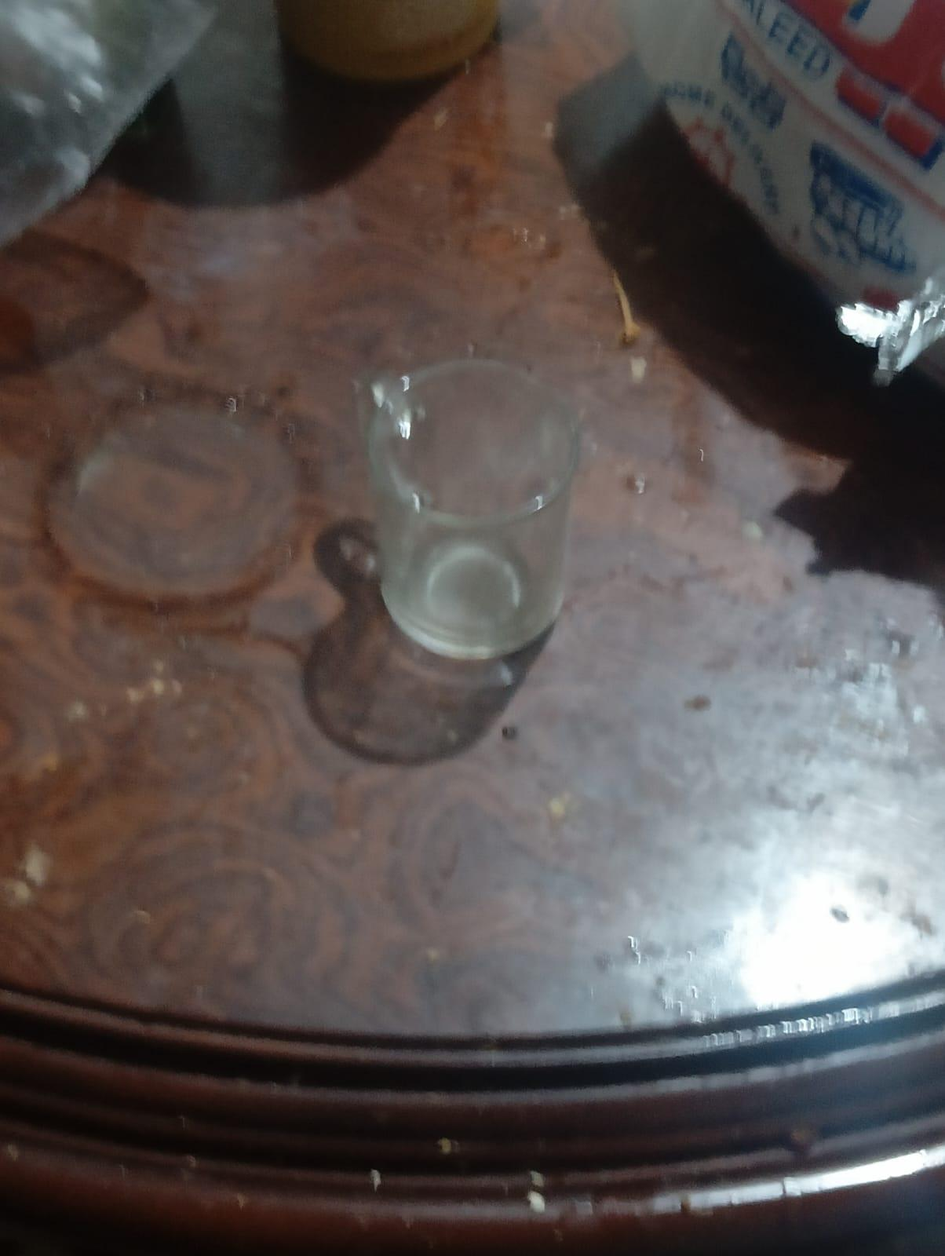cup: (356, 359, 578, 659), (410, 356, 580, 528)
